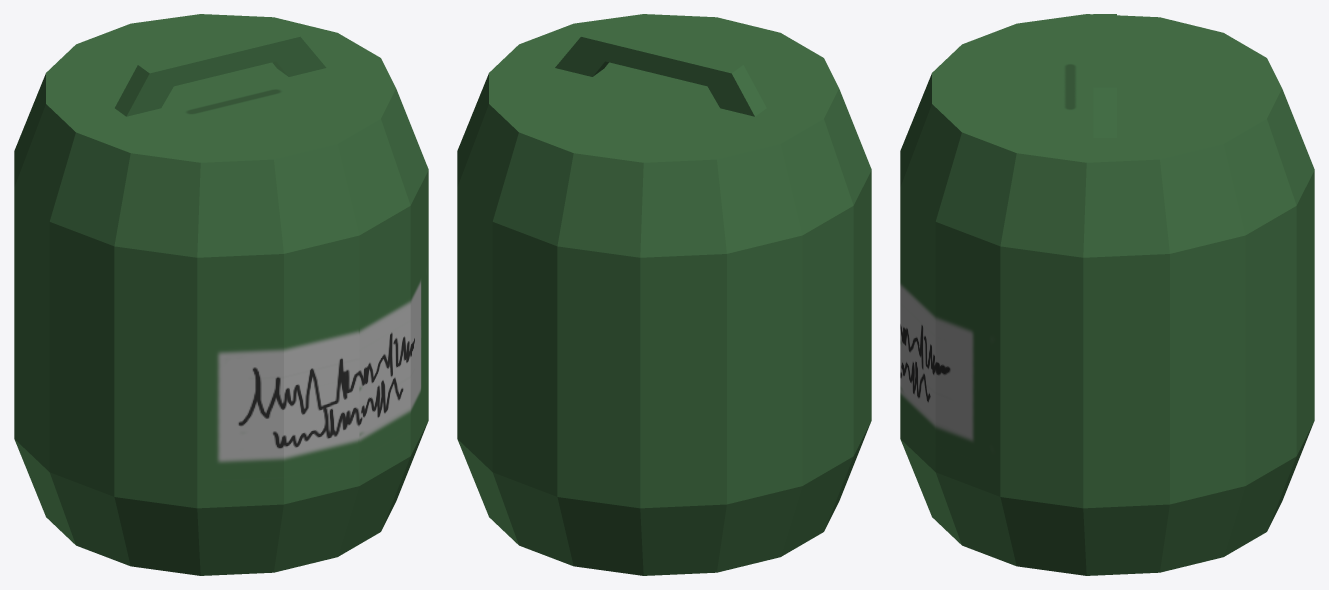
The model's file is Item_D.fbx.
The picture shows the model from 3 angles, left to right: view 1: azimuth 30°, elevation 25°; view 2: azimuth 150°, elevation 25°; view 3: azimuth 270°, elevation 25°; orthographic projection.
Visible parts, largest first — view 1: Cylinder; view 2: Cylinder; view 3: Cylinder.
Part boxes in pixels (bbox=[...]): Cylinder: bbox=[14, 14, 428, 575]; Cylinder: bbox=[457, 14, 871, 575]; Cylinder: bbox=[900, 14, 1314, 575].
Bounding box in the file's own units: 471 × 562 × 468.
1 material, 1 textured.
